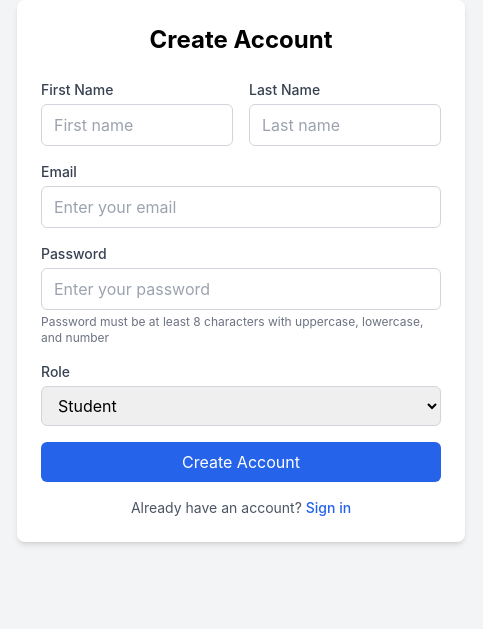
it: RegisterForm › displays error message when registration fails
In the field labelled "First Name": (137, 125) [41,104,233,146], type "John"
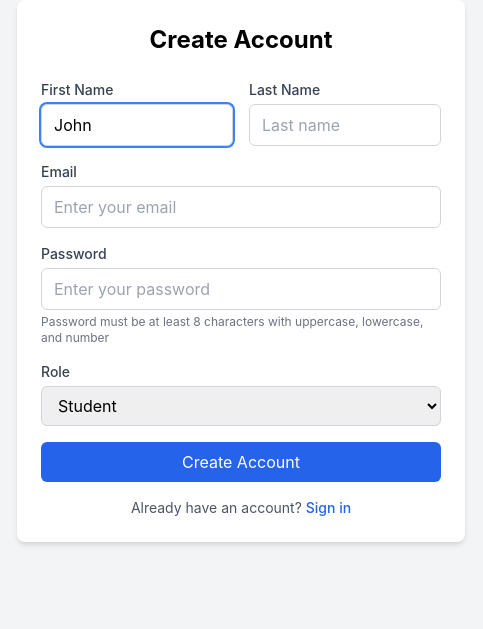
In the field labelled "Last Name": (345, 125) [249,104,441,146], type "Doe"
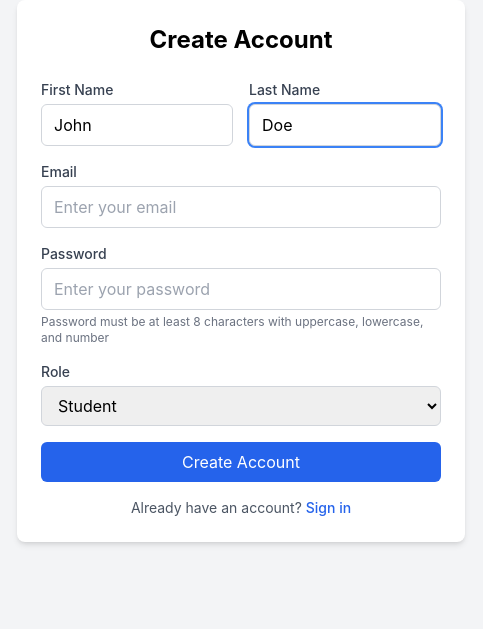
In the field labelled "Email": (241, 207) [41,186,441,228], type "existing@example.com"
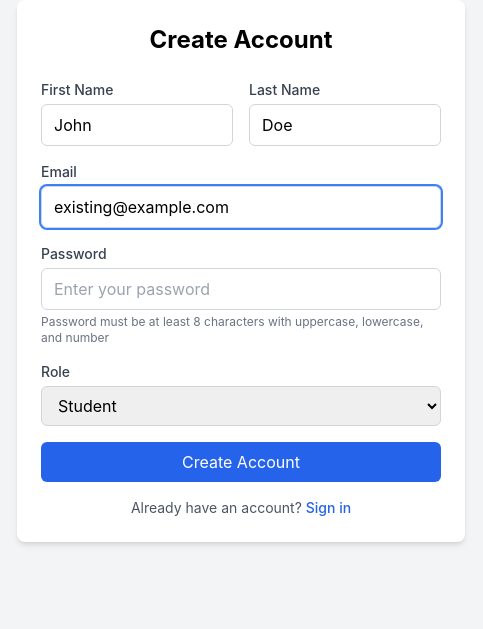
In the password field labelled "Password": (241, 289) [41,268,441,310], type "Password123"
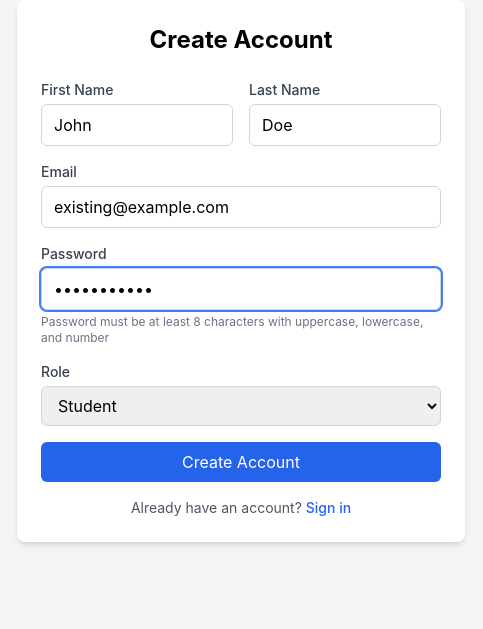
Click the button "Create Account": (241, 462) [41,442,441,482]
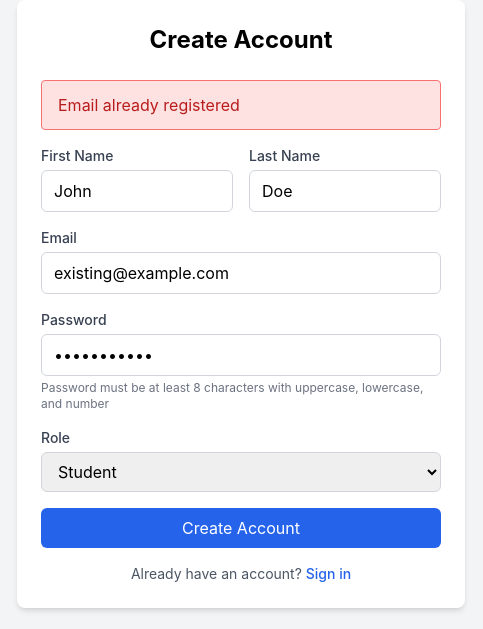
Check: the text "Email already registered" is shown, box [41,80,441,130]
